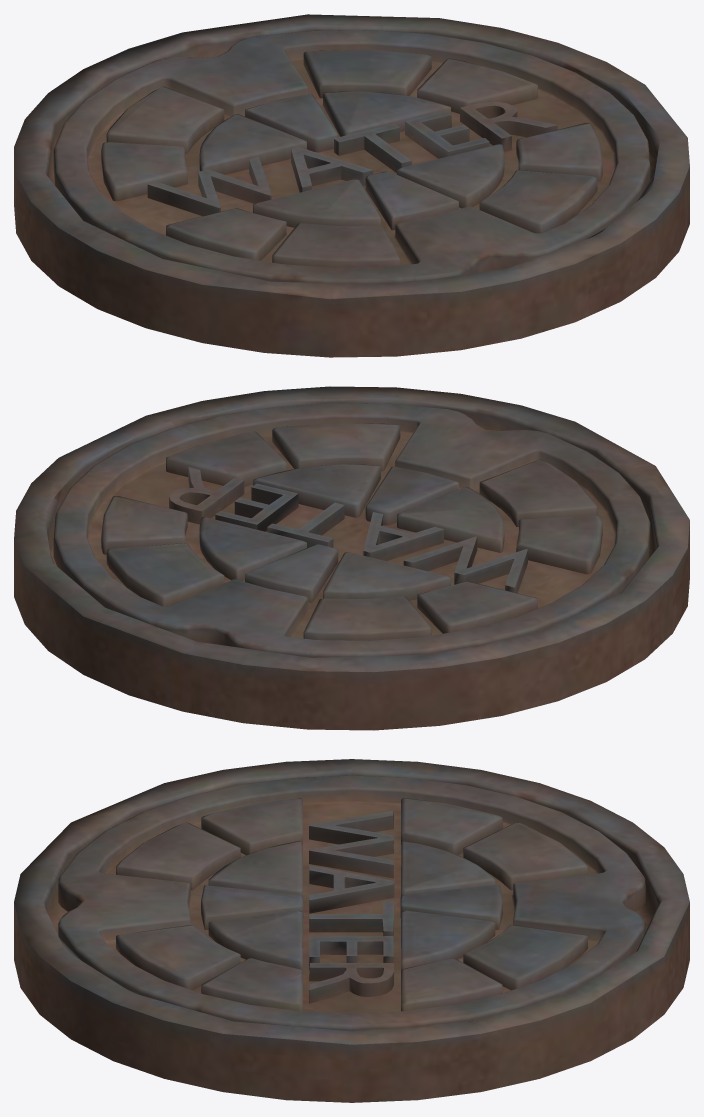
Rendered from water_manhole_cover.glb.
The picture shows the model from 3 angles, top to bottom: view 1: azimuth 30°, elevation 25°; view 2: azimuth 150°, elevation 25°; view 3: azimuth 270°, elevation 25°; orthographic projection.
Visible parts, largest first — view 1: water_manhole_cover, water_manhole_cover_frame; view 2: water_manhole_cover, water_manhole_cover_frame; view 3: water_manhole_cover, water_manhole_cover_frame.
Boxes of the visible parts, x1,y1,x2,y2 form: water_manhole_cover: (53,30,650,284); water_manhole_cover_frame: (14,14,689,357); water_manhole_cover: (53,403,650,657); water_manhole_cover_frame: (14,386,689,730); water_manhole_cover: (58,775,645,1031); water_manhole_cover_frame: (14,759,689,1102).
Size of the model in its own units: 0.6908 by 0.0676 by 0.6908.
Materials: 1 (1 with a texture image).
